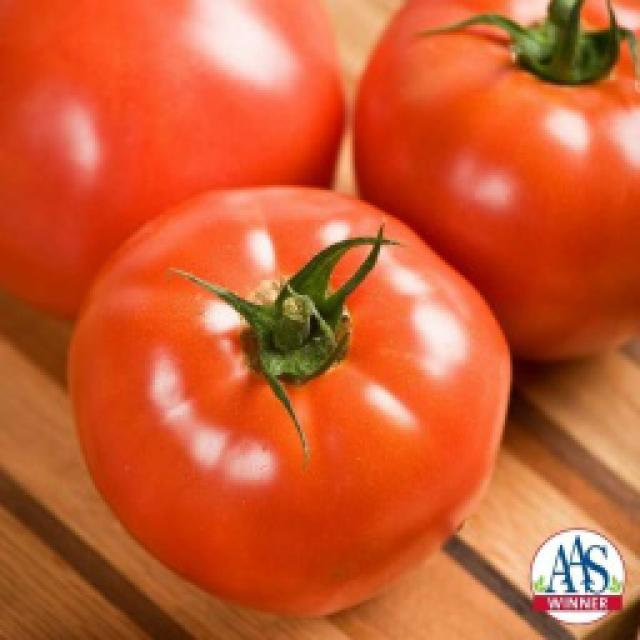tomato: (65, 187, 510, 615), (0, 0, 345, 318), (357, 0, 637, 362)
